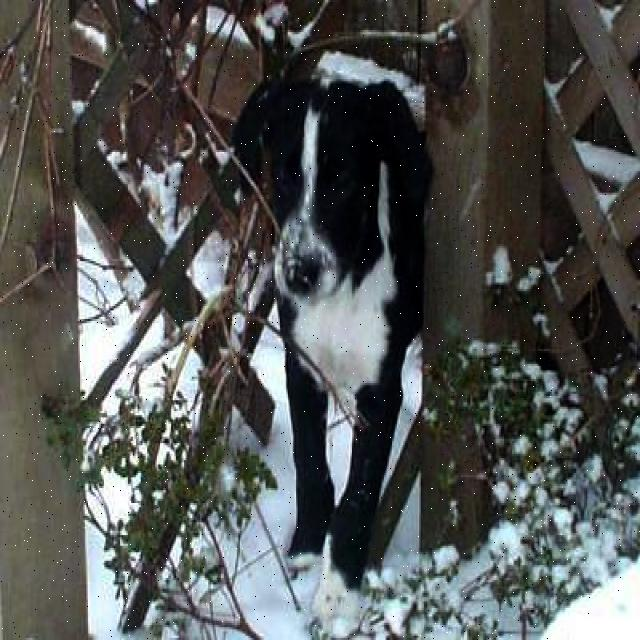Dog: (244, 35, 429, 325)
